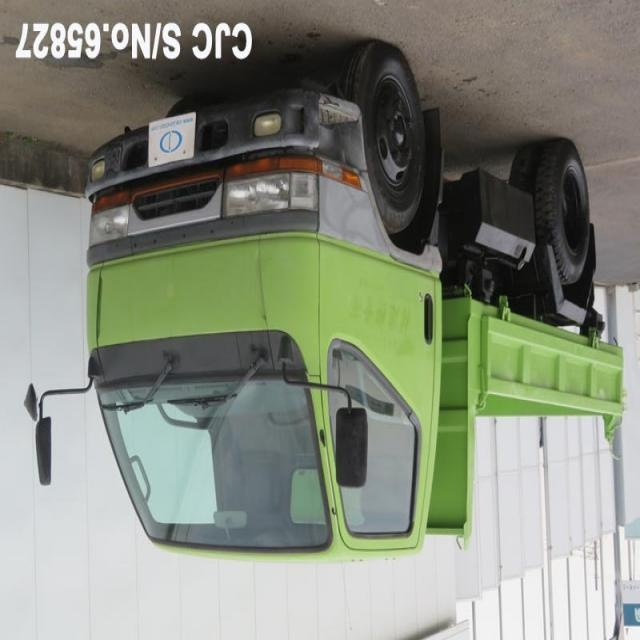Truck: (39, 44, 626, 559)
